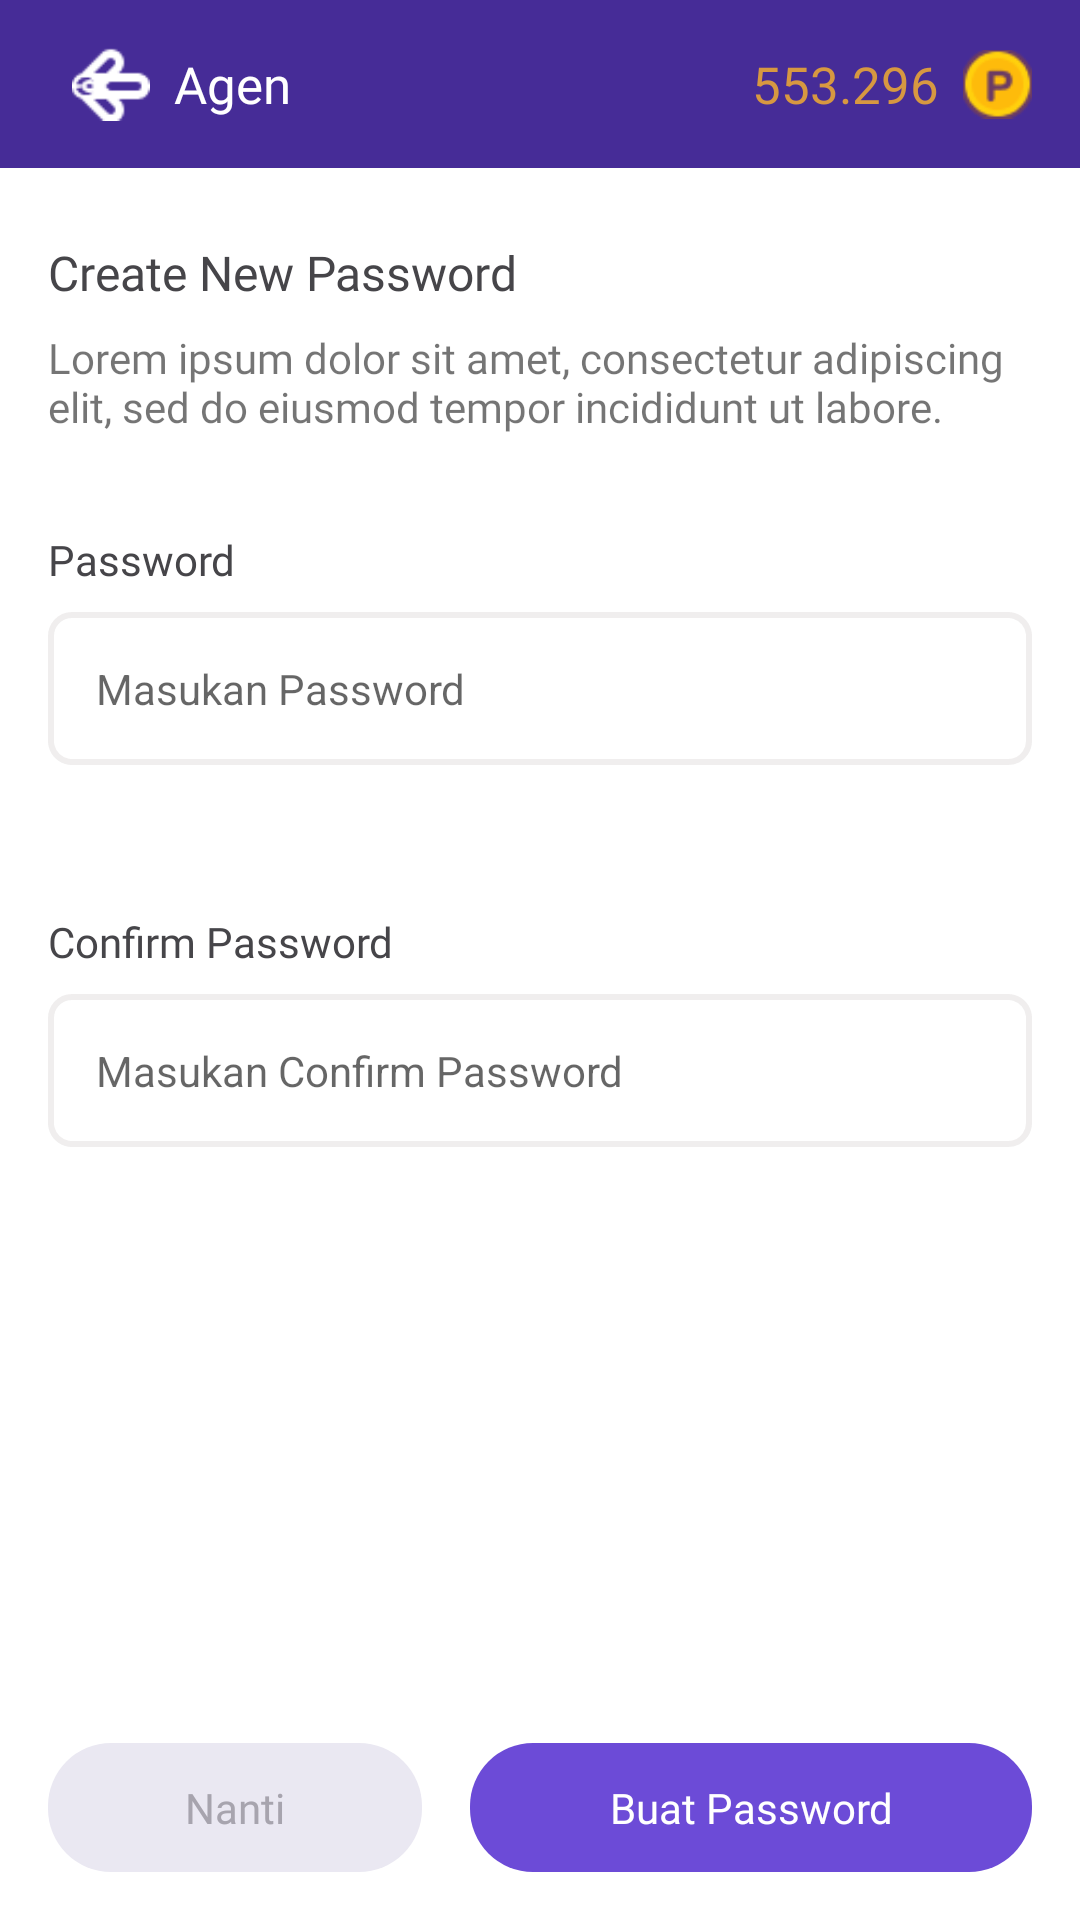

Icon bounding boxes for this 1080×1920 phone screenshot, format (x1, y1, x2, y2):
coin: (963, 50, 1032, 119)
